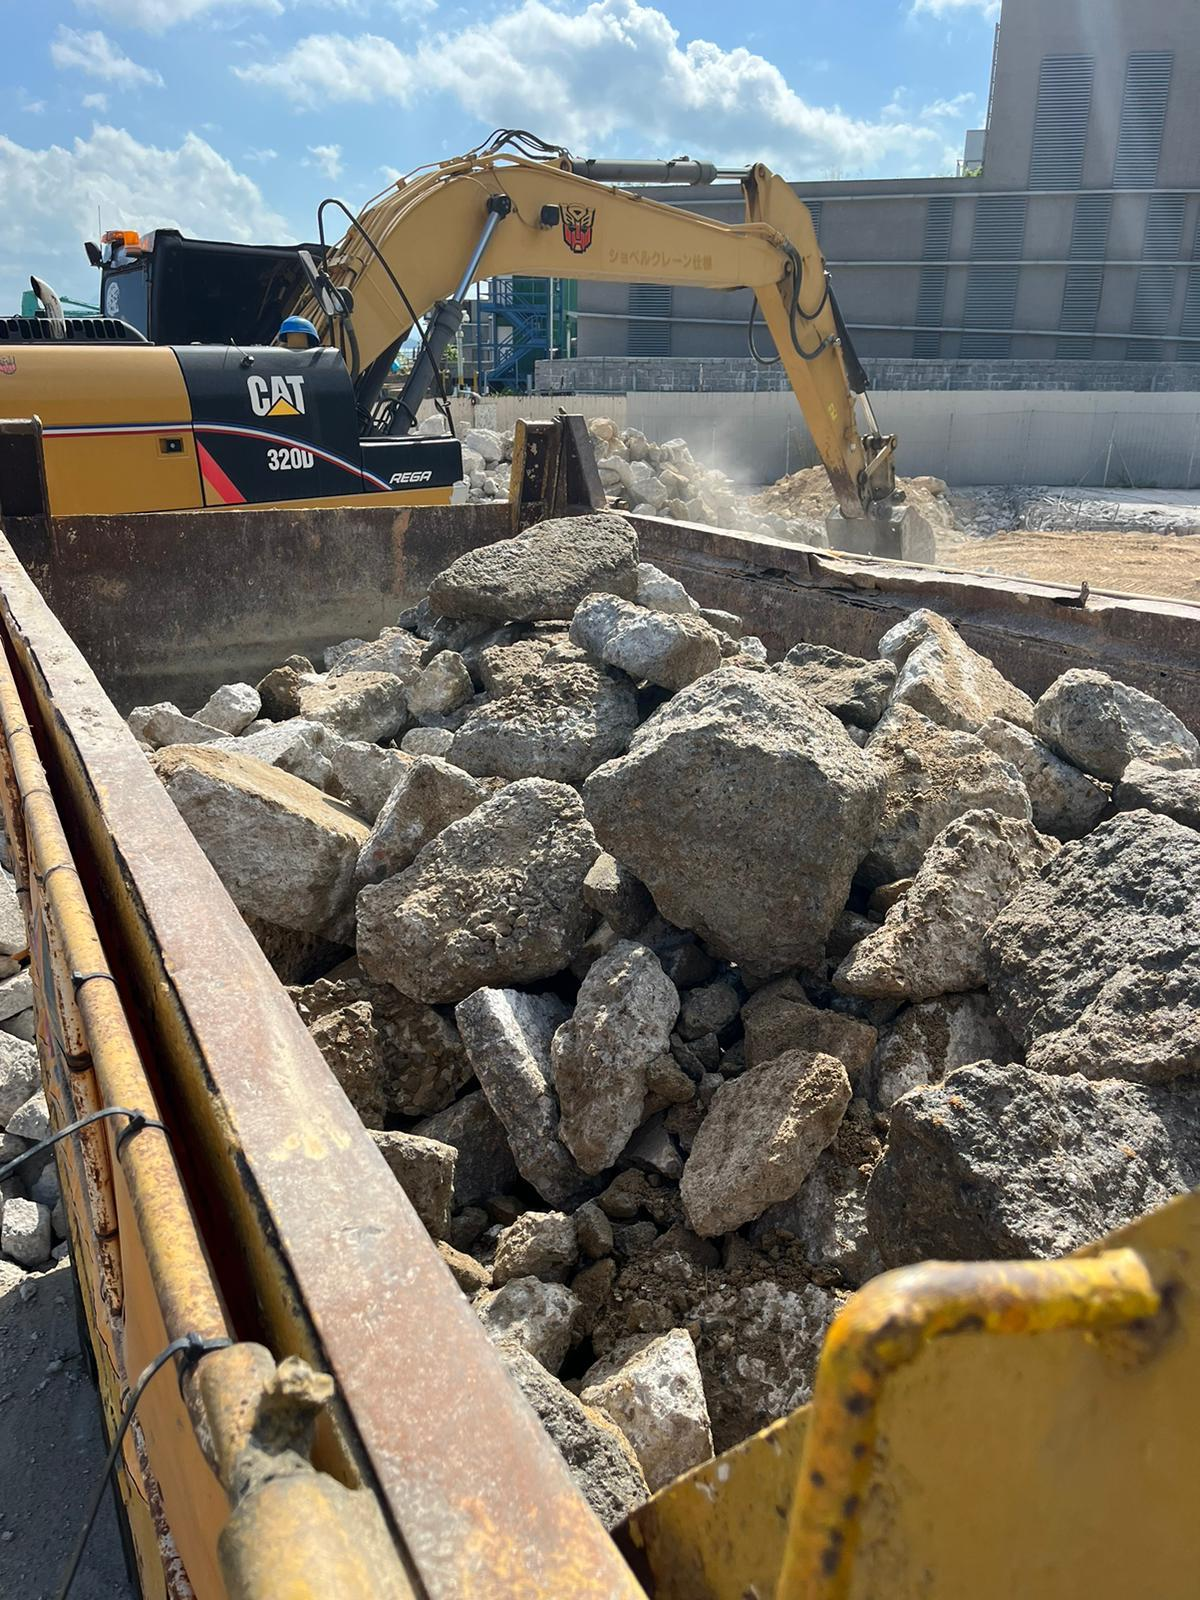dry: (132, 520, 1197, 1522)
